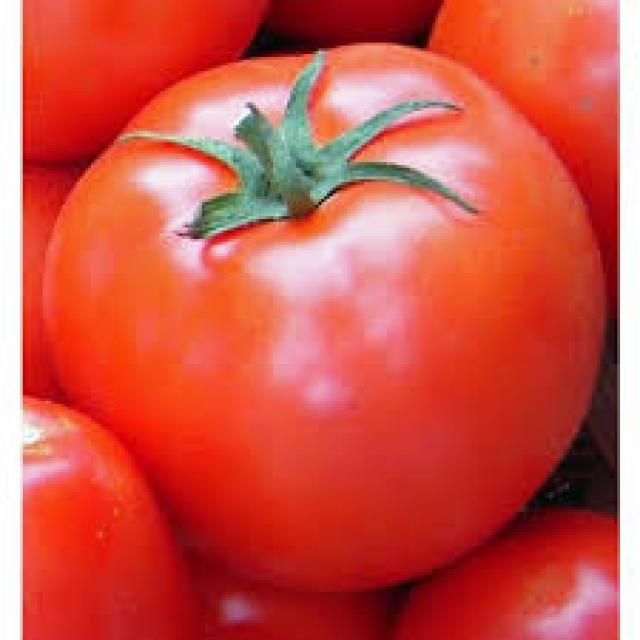Fresh_tomato: (52, 63, 590, 570)
